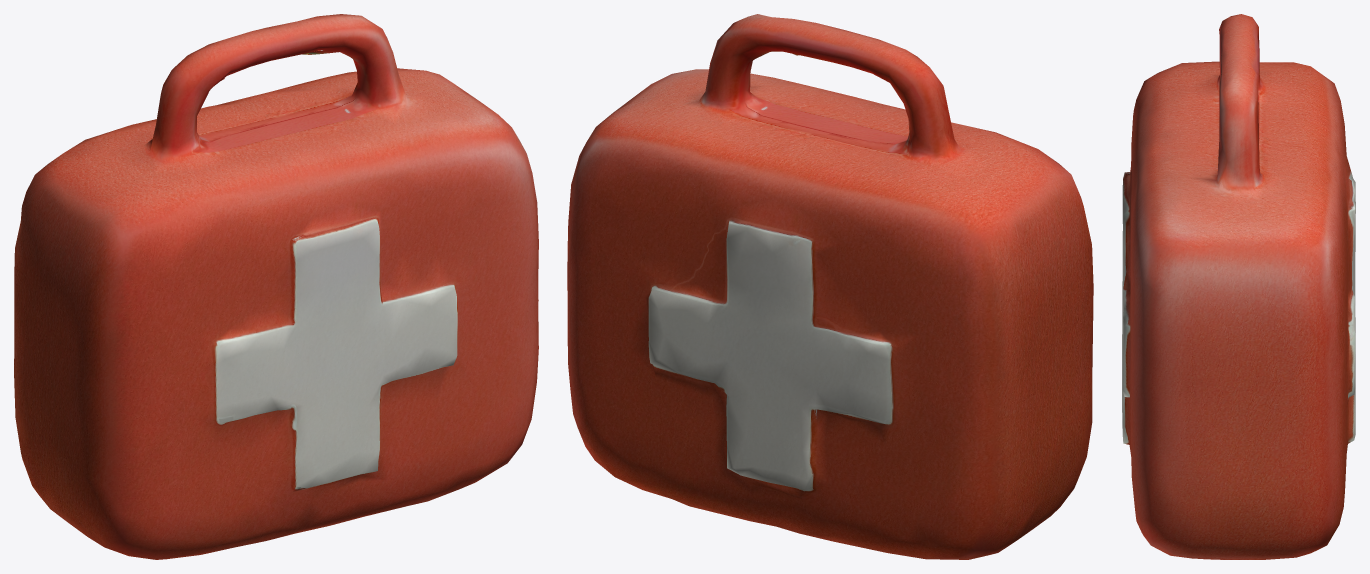
Rendered from P_MedicineCase_h32.fbx.
3 renders of one model, left to right at view 1: azimuth 30°, elevation 25°; view 2: azimuth 150°, elevation 25°; view 3: azimuth 270°, elevation 25°, orthographic. The views are drawn at different scales.
Visible parts, largest first — view 1: texture_mapping; view 2: texture_mapping; view 3: texture_mapping.
Boxes of the visible parts, x1,y1,x2,y2 form: texture_mapping: (14,14,538,559); texture_mapping: (567,14,1093,559); texture_mapping: (1122,14,1355,559).
Bounding box in the file's own units: 95.44 × 95.82 × 45.71.
Materials: 1 (1 with a texture image).
